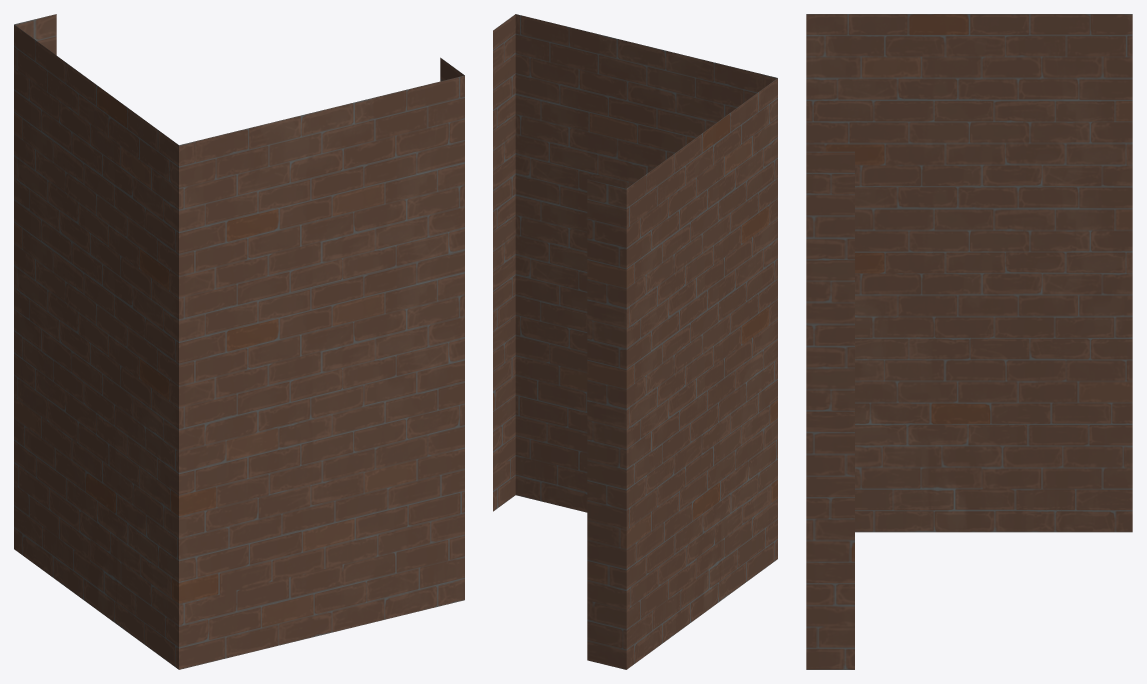
The model's file is Brick_CornerColumn_Center_Half.gltf.
3 renders of one model, left to right at view 1: azimuth 30°, elevation 25°; view 2: azimuth 150°, elevation 25°; view 3: azimuth 270°, elevation 25°, orthographic. The views are drawn at different scales.
Parts seen in each view (by area): view 1: Brick_CornerColumn_Center_Half; view 2: Brick_CornerColumn_Center_Half; view 3: Brick_CornerColumn_Center_Half.
Part boxes in pixels (x1=…): Brick_CornerColumn_Center_Half: x1=14, y1=14, x2=464, y2=669; Brick_CornerColumn_Center_Half: x1=493, y1=14, x2=777, y2=669; Brick_CornerColumn_Center_Half: x1=806, y1=14, x2=1132, y2=669.
Bounding box in the file's own units: 1.14 × 2 × 1.14.
Materials: 1 (1 with a texture image).
